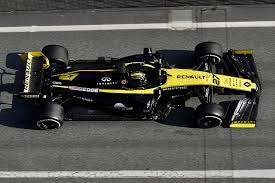f1_car: (9, 41, 267, 142)
